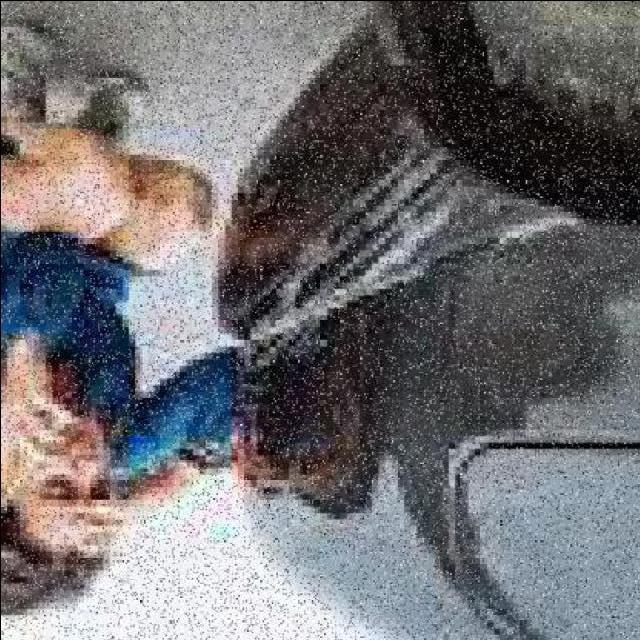rear-bumper-dent: (179, 5, 640, 332)
